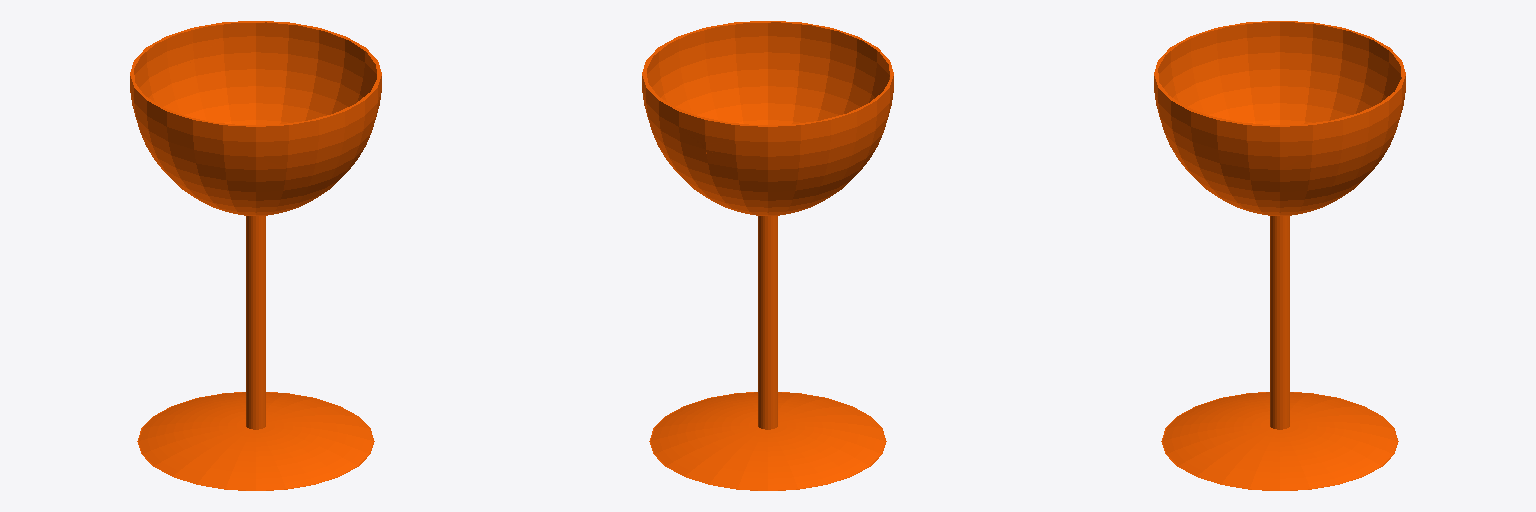
robot.urdf — WineGlass_560807ead8bcbebf94bbacc83c160625:
<?xml version="1.0" ?>
<robot name="WineGlass_560807ead8bcbebf94bbacc83c160625">
   <material name="obj_color">
      <color rgba="1.0 0.423529411765 0.0392156862745 1.0"/>
   </material>
   <link name="top">
      <inertial>
         <origin rpy="0.0002885241245035321 0.0005462590086540733 0.0005470463806821844" xyz="0.00026806800037287 0.0006820974243395346 0.02752127373291316"/>
         <mass value="0.406045888034031"/>
         <inertia ixx="0.000546867858392771" ixy="-4.544167239336859e-07" ixz="4.551536956964778e-06" iyy="0.0005458872077743978" iyz="1.099175043438266e-05" izz="0.000289074447672621"/>
      </inertial>
      <visual>
         <origin rpy="0 0 0" xyz="0 0 0"/>
         <geometry>
            <mesh filename="top_watertight_tiny.stl" scale="1 1 1"/>
         </geometry>
         <material name="obj_color"/>
      </visual>
      <collision>
         <origin rpy="0 0 0" xyz="0 0 0"/>
         <geometry>
            <mesh filename="top_watertight_tiny.obj" scale="1 1 1"/>
         </geometry>
      </collision>
   </link>
   <link name="bottom">
      <inertial>
         <origin rpy="6.326077485034573e-06 6.326085742147113e-06 1.255126485755384e-05" xyz="-5.442710254961719e-05 -0.0001017073116322767 -0.07786197972228781"/>
         <mass value="0.01989925592757561"/>
         <inertia ixx="6.326085460730847e-06" ixy="1.498163046836797e-12" ixz="1.476864247190806e-12" iyy="6.326077766451419e-06" iyz="-1.192715897725853e-12" izz="1.255126485755326e-05"/>
      </inertial>
      <visual>
         <origin rpy="0 0 0" xyz="0 0 0"/>
         <geometry>
            <mesh filename="bottom_watertight_tiny.stl" scale="1 1 1"/>
         </geometry>
         <material name="obj_color"/>
      </visual>
      <collision>
         <origin rpy="0 0 0" xyz="0 0 0"/>
         <geometry>
            <mesh filename="bottom_watertight_tiny.obj" scale="1 1 1"/>
         </geometry>
      </collision>
   </link>
   <link name="world"/>
   <joint name="world_to_base" type="fixed">
      <origin xyz="0 0 0"/>
      <axis xyz="0 0 0"/>
      <parent link="world"/>
      <child link="bottom"/>
   </joint>
   <joint name="rotation" type="revolute">
      <origin xyz="0 0 0"/>
      <axis xyz="0 0 -1"/>
      <parent link="bottom"/>
      <child link="top"/>
      <dynamics damping="1.0" friction="1.0"/>
      <limit effort="0.1" velocity="0.1" lower="0" upper="0.001"/>
   </joint>
</robot>

--- Facts derived from the render (not from the file) ---
Views: 3 orthographic renders of the robot side by side, from view 1: azimuth 30°, elevation 25°; view 2: azimuth 150°, elevation 25°; view 3: azimuth 270°, elevation 25°.
Model WineGlass_560807ead8bcbebf94bbacc83c160625 with 3 links and 2 joints (1 revolute, 1 fixed), rooted at world, posed every joint at zero.
Links seen in each view (by area): view 1: top, bottom; view 2: top, bottom; view 3: top, bottom.
Boxes of the visible links, x1,y1,x2,y2 form: top: (130, 21, 381, 429); bottom: (137, 392, 374, 490); top: (642, 21, 893, 436); bottom: (649, 392, 886, 490); top: (1154, 21, 1405, 435); bottom: (1161, 392, 1398, 490).
Bounding box of the posed robot: 0.0928 × 0.0928 × 0.1492 m (x, y, z).
Meshes: 2 distinct files referenced, 2 mesh visuals loaded (2 binary STL).
